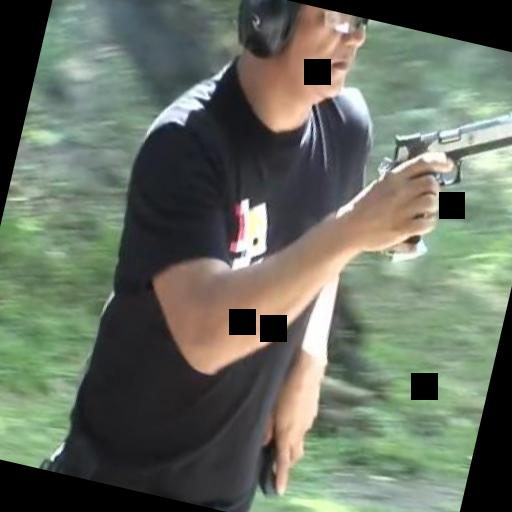Handgun: (363, 78, 512, 282)
